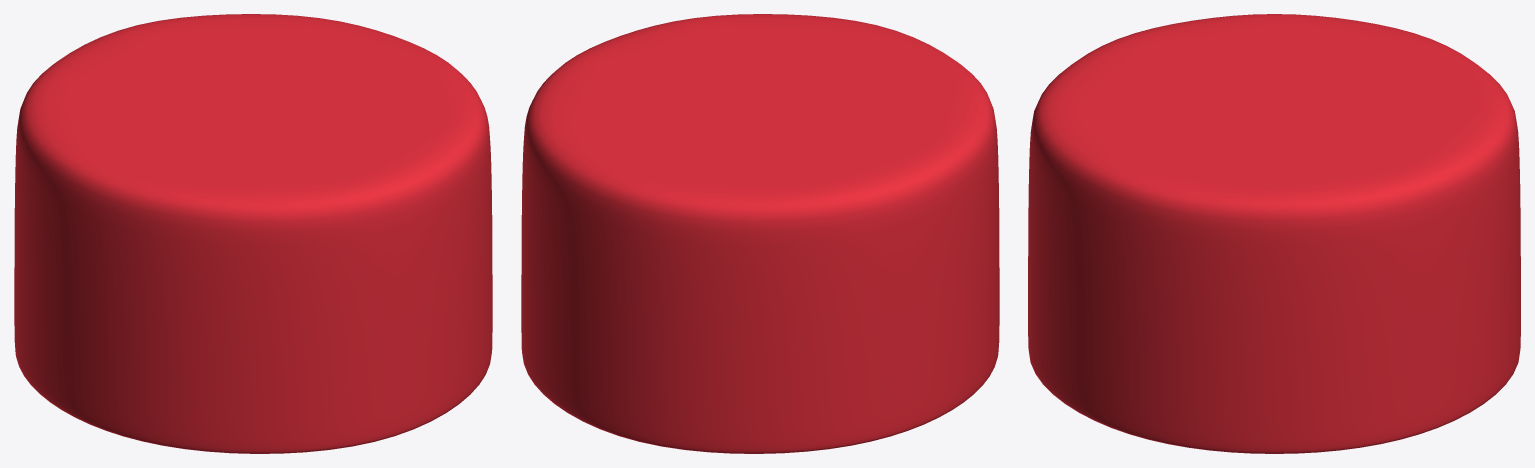
File: bouchon_t.fbx
3 views of the same model, side by side, from view 1: azimuth 30°, elevation 25°; view 2: azimuth 150°, elevation 25°; view 3: azimuth 270°, elevation 25° (orthographic).
Parts seen in each view (by area): view 1: bouchon; view 2: bouchon; view 3: bouchon.
Boxes of the visible parts, x1=… form: bouchon: x1=14, y1=14, x2=492, y2=453; bouchon: x1=521, y1=14, x2=999, y2=453; bouchon: x1=1028, y1=14, x2=1520, y2=453.
Size of the model in its own units: 4.64 by 2.69 by 4.8.
